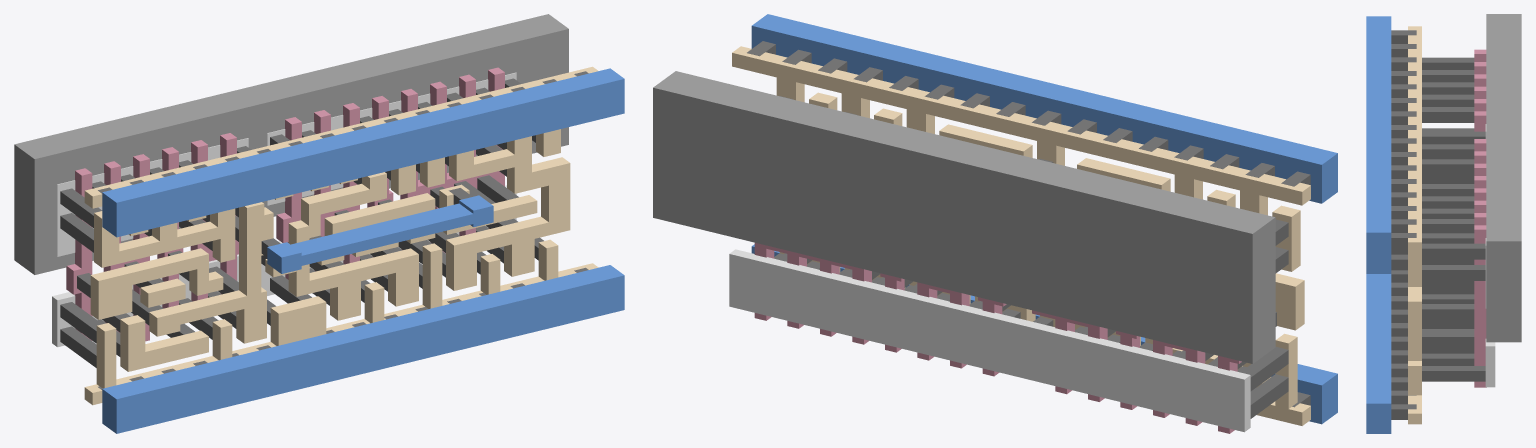
The model's file is sky130_fd_sc_hd__a2bb2o_4.gds.gltf.
3 views of the same model, side by side, from view 1: azimuth 30°, elevation 25°; view 2: azimuth 150°, elevation 25°; view 3: azimuth 270°, elevation 25° (orthographic). The views are drawn at different scales.
Visible parts, largest first — view 1: sky130_fd_sc_hd__a2bb2o_4_met1, sky130_fd_sc_hd__a2bb2o_4_li1, sky130_fd_sc_hd__a2bb2o_4_nwell, sky130_fd_sc_hd__a2bb2o_4_licon, sky130_fd_sc_hd__a2bb2o_4_poly, sky130_fd_sc_hd__a2bb2o_4_diff, sky130_fd_sc_hd__a2bb2o_4_mcon; view 2: sky130_fd_sc_hd__a2bb2o_4_nwell, sky130_fd_sc_hd__a2bb2o_4_diff, sky130_fd_sc_hd__a2bb2o_4_li1, sky130_fd_sc_hd__a2bb2o_4_met1, sky130_fd_sc_hd__a2bb2o_4_poly, sky130_fd_sc_hd__a2bb2o_4_mcon, sky130_fd_sc_hd__a2bb2o_4_licon; view 3: sky130_fd_sc_hd__a2bb2o_4_licon, sky130_fd_sc_hd__a2bb2o_4_nwell, sky130_fd_sc_hd__a2bb2o_4_met1, sky130_fd_sc_hd__a2bb2o_4_mcon, sky130_fd_sc_hd__a2bb2o_4_li1, sky130_fd_sc_hd__a2bb2o_4_poly, sky130_fd_sc_hd__a2bb2o_4_diff.
Part boxes in pixels (x1,y1,x2,y2): sky130_fd_sc_hd__a2bb2o_4_met1: (102,68,624,433); sky130_fd_sc_hd__a2bb2o_4_li1: (84,66,598,405); sky130_fd_sc_hd__a2bb2o_4_nwell: (14,14,568,274); sky130_fd_sc_hd__a2bb2o_4_licon: (60,78,543,367); sky130_fd_sc_hd__a2bb2o_4_poly: (66,67,504,341); sky130_fd_sc_hd__a2bb2o_4_diff: (52,72,516,347); sky130_fd_sc_hd__a2bb2o_4_mcon: (98,71,588,389); sky130_fd_sc_hd__a2bb2o_4_nwell: (653,71,1275,363); sky130_fd_sc_hd__a2bb2o_4_diff: (729,249,1250,432); sky130_fd_sc_hd__a2bb2o_4_li1: (732,46,1310,425); sky130_fd_sc_hd__a2bb2o_4_met1: (751,14,1337,424); sky130_fd_sc_hd__a2bb2o_4_poly: (754,242,1241,433); sky130_fd_sc_hd__a2bb2o_4_mcon: (747,41,1310,407); sky130_fd_sc_hd__a2bb2o_4_licon: (774,96,1288,418); sky130_fd_sc_hd__a2bb2o_4_licon: (1422,57,1485,381); sky130_fd_sc_hd__a2bb2o_4_nwell: (1486,14,1521,342); sky130_fd_sc_hd__a2bb2o_4_met1: (1366,16,1391,433); sky130_fd_sc_hd__a2bb2o_4_mcon: (1391,30,1416,419); sky130_fd_sc_hd__a2bb2o_4_li1: (1408,26,1421,424); sky130_fd_sc_hd__a2bb2o_4_poly: (1474,49,1486,387); sky130_fd_sc_hd__a2bb2o_4_diff: (1485,124,1495,387).
Size of the model in its own units: 7.74 by 3.2 by 2.24.
